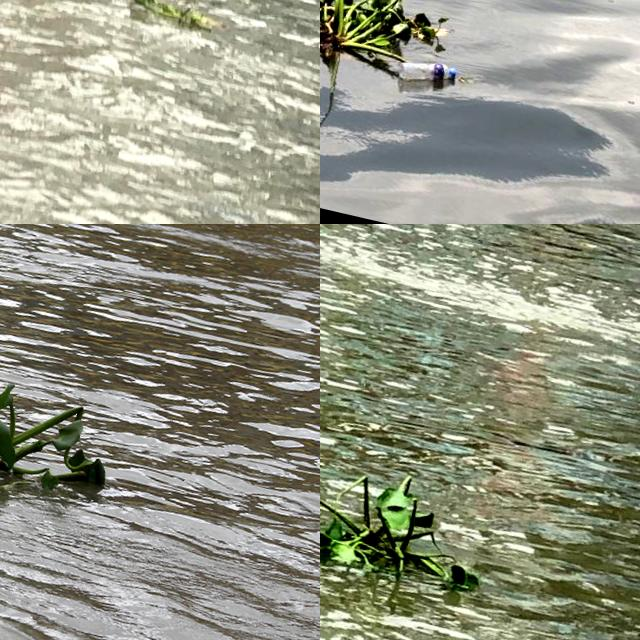plastic bottle: (398, 62, 459, 81)
water-hyacinth: (321, 439, 500, 614), (321, 1, 481, 108), (1, 385, 110, 491), (123, 1, 235, 44)
